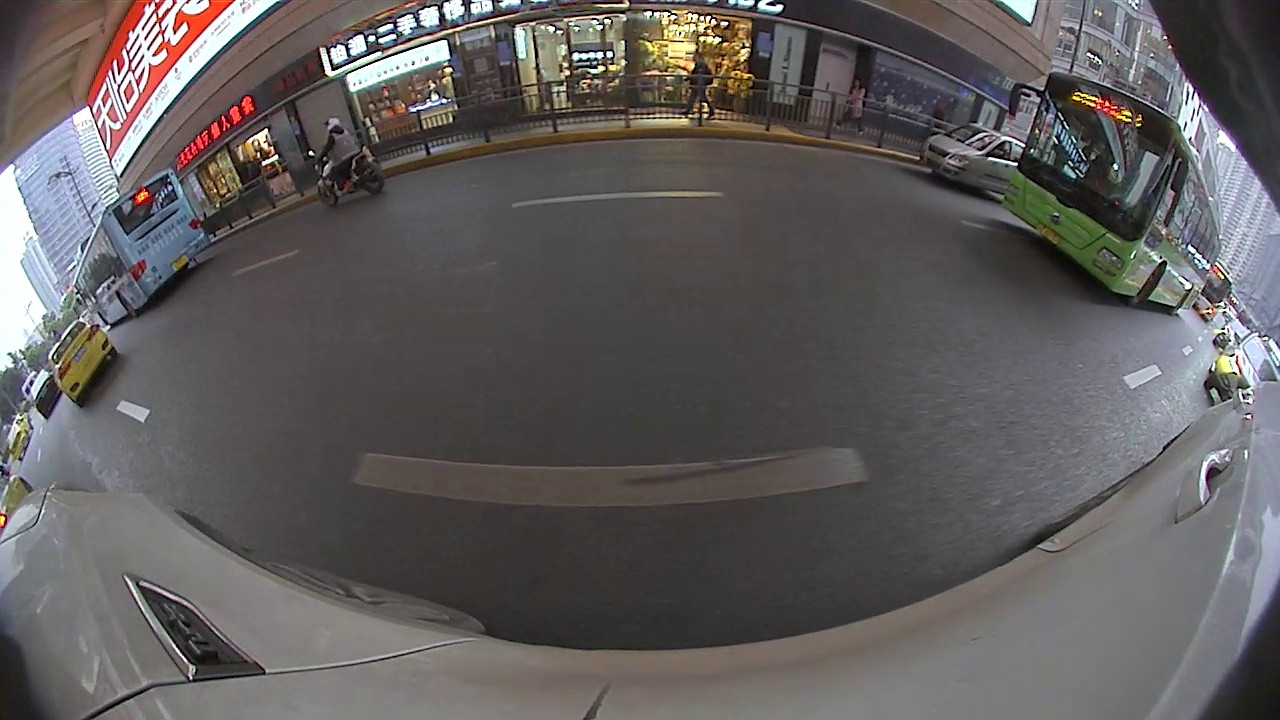bus: (1000, 69, 1226, 313), (77, 164, 216, 331)
car: (921, 113, 1028, 199), (48, 317, 123, 410)
rear: (352, 164, 386, 192)
rider: (308, 111, 389, 207)
